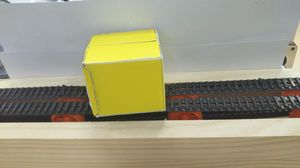box4: (78, 25, 169, 119)
